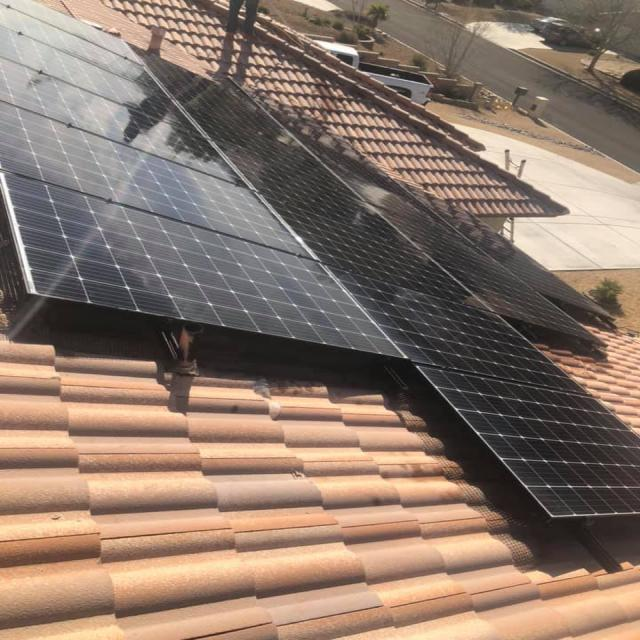clean-solar-panel: (3, 0, 637, 515)
